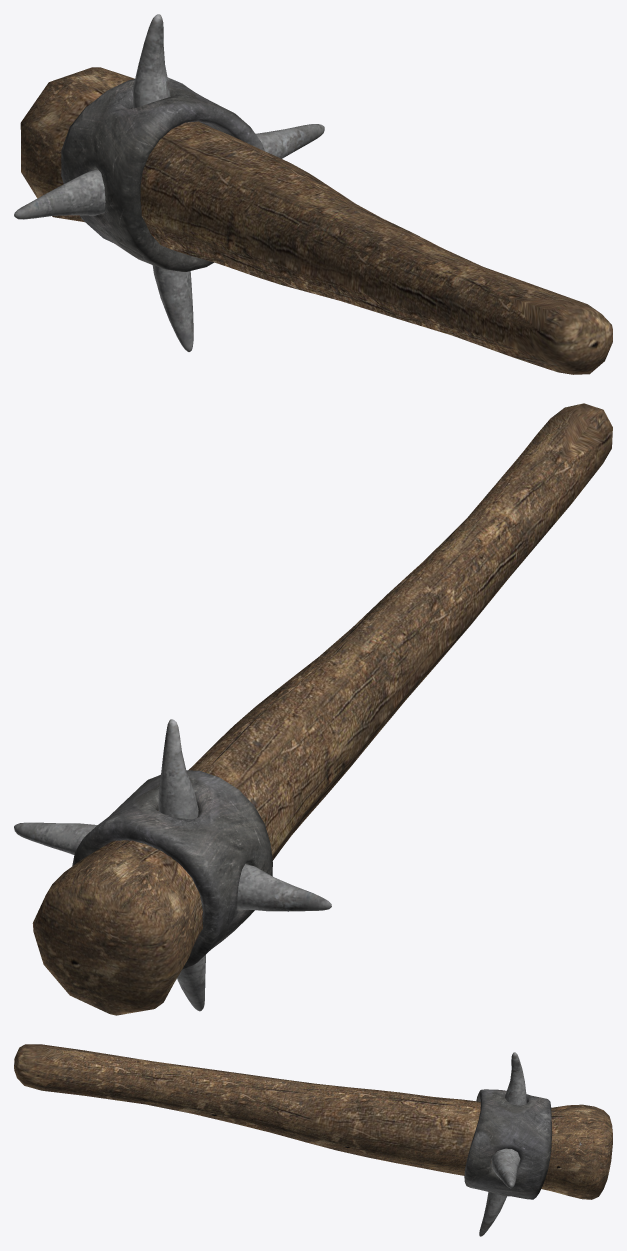
Rendered from club.glb.
3 views of the same model, one above another, from view 1: azimuth 30°, elevation 25°; view 2: azimuth 150°, elevation 25°; view 3: azimuth 270°, elevation 25° (orthographic). The views are drawn at different scales.
Parts seen in each view (by area): view 1: Club; view 2: Club; view 3: Club.
Part boxes in pixels (<box>): Club: <box>14,14,612,374</box>; Club: <box>14,403,612,1015</box>; Club: <box>14,1044,612,1236</box>.
Size of the model in its own units: 0.4393 by 0.4353 by 1.24.
Materials: 1 (1 with a texture image).
